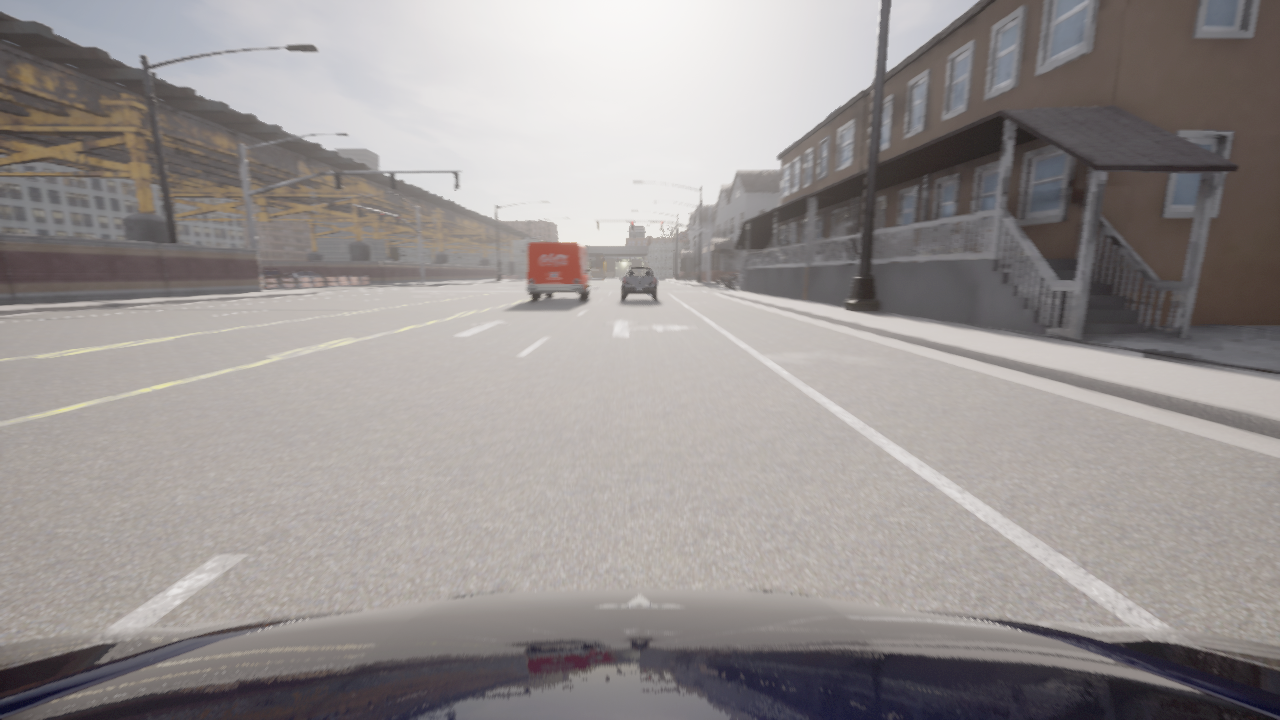cyclist: (0, 588, 1279, 719), (525, 242, 594, 300), (620, 266, 658, 300), (283, 269, 337, 285), (262, 269, 287, 285), (715, 273, 737, 289), (502, 273, 504, 274)
